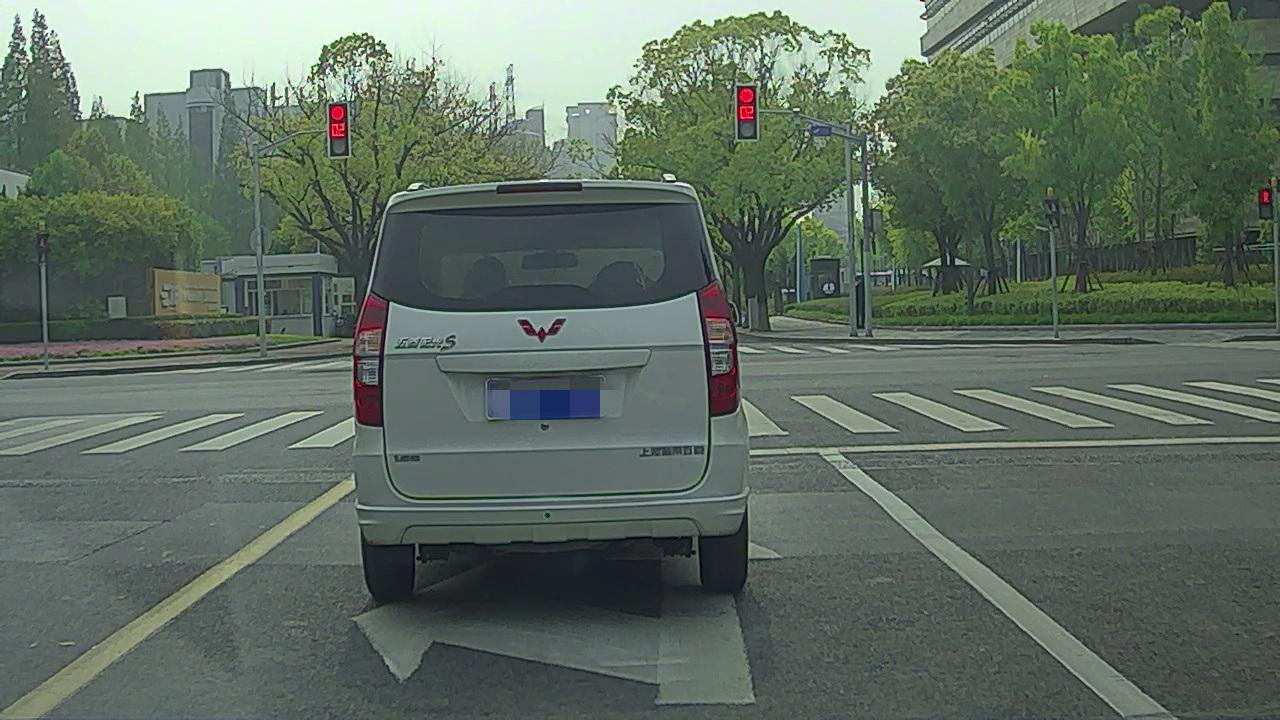traffic_light: (737, 85, 758, 139), (329, 104, 349, 157)
